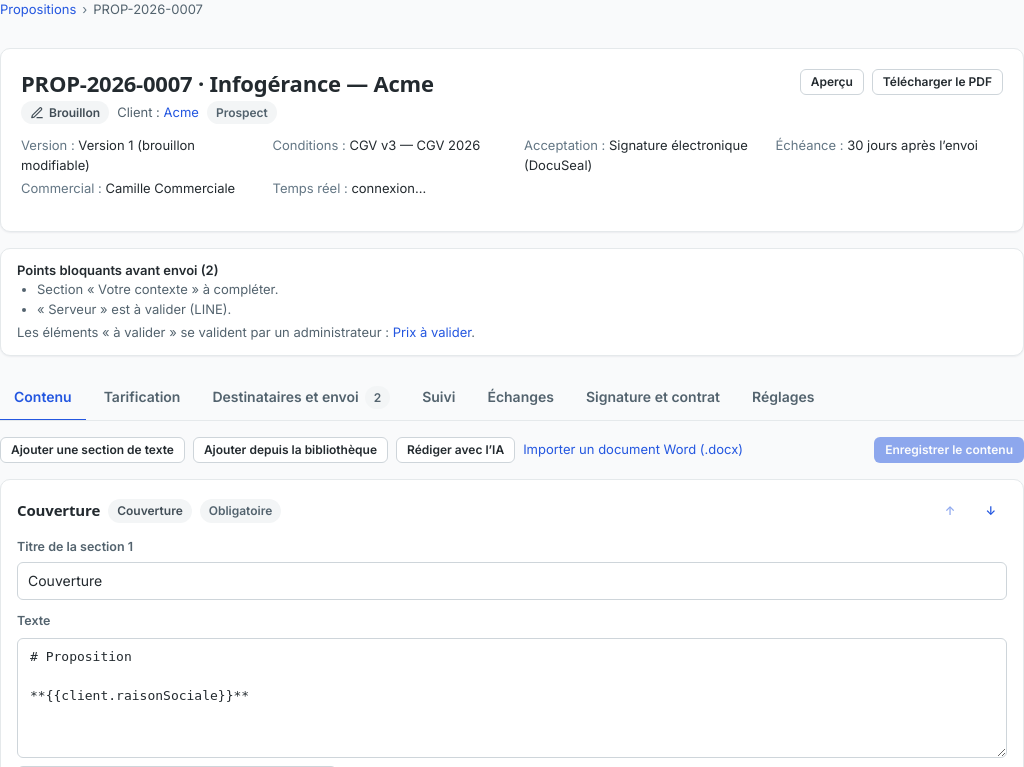
Test: erreur IA (budget) : detail du serveur affiché
The width and height of the screenshot is (1024, 767).
Click the button "Rédiger avec l’IA" at (456, 450), box [396,437,515,463]
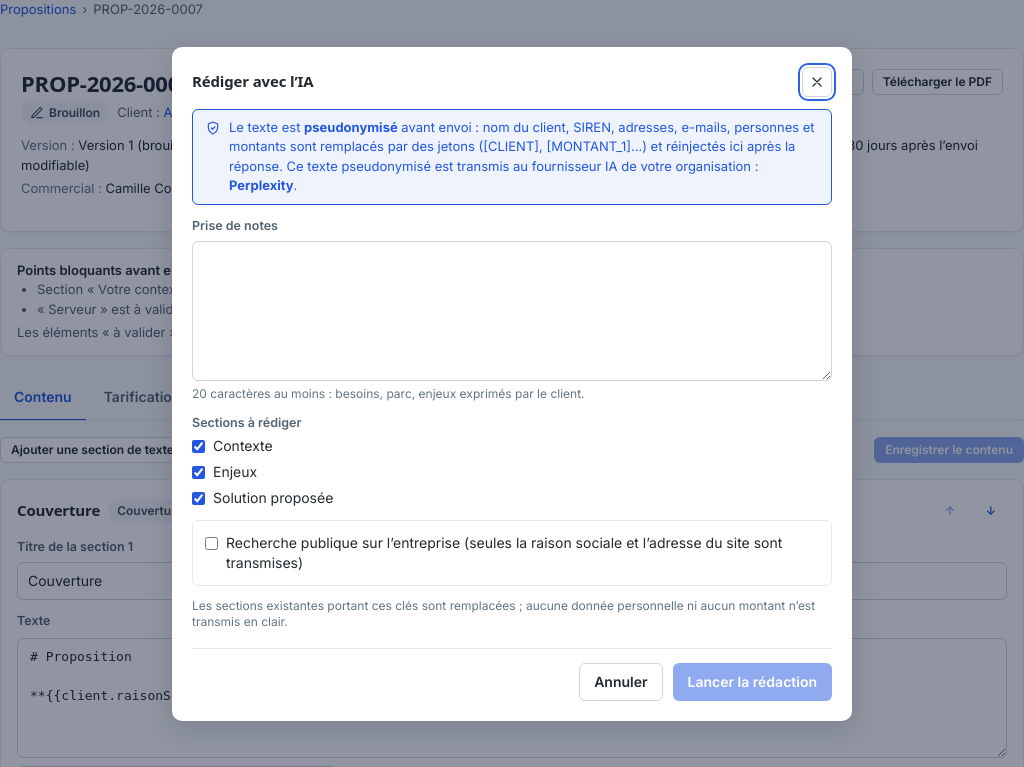
Type "Des notes suffisamment longues pour partir." into the text box labelled "Prise de notes" at (512, 310), box [192,240,832,380]
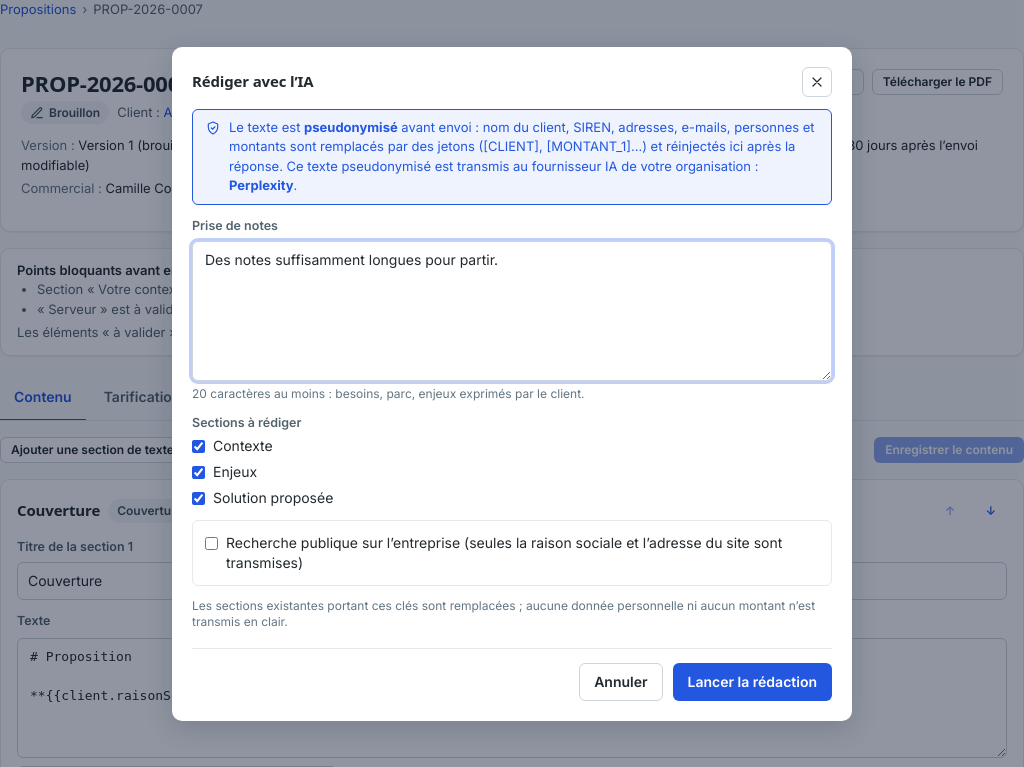
Click the button "Lancer la rédaction" at (752, 682), box [673,663,832,701]
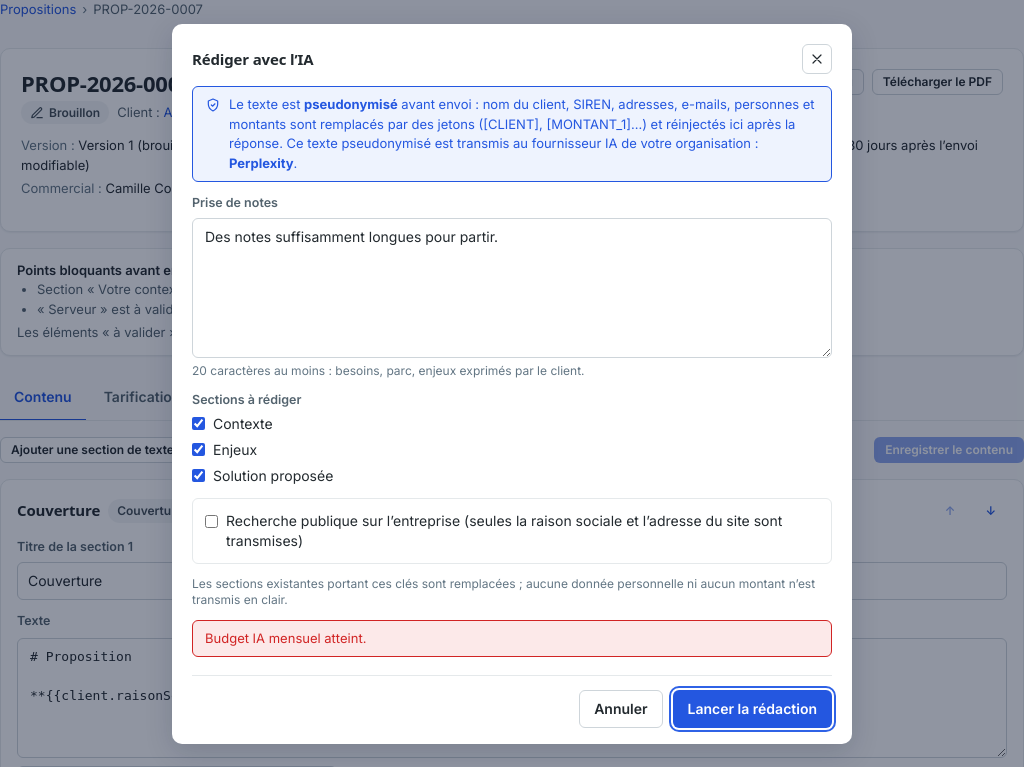
Now the message reads "Budget IA mensuel atteint.", box [205,630,366,646]
